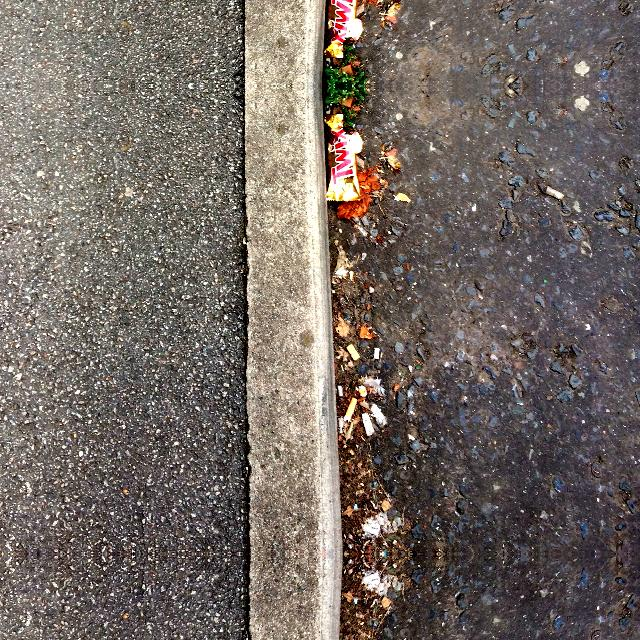Plastic: (319, 106, 369, 212), (319, 0, 369, 64)
